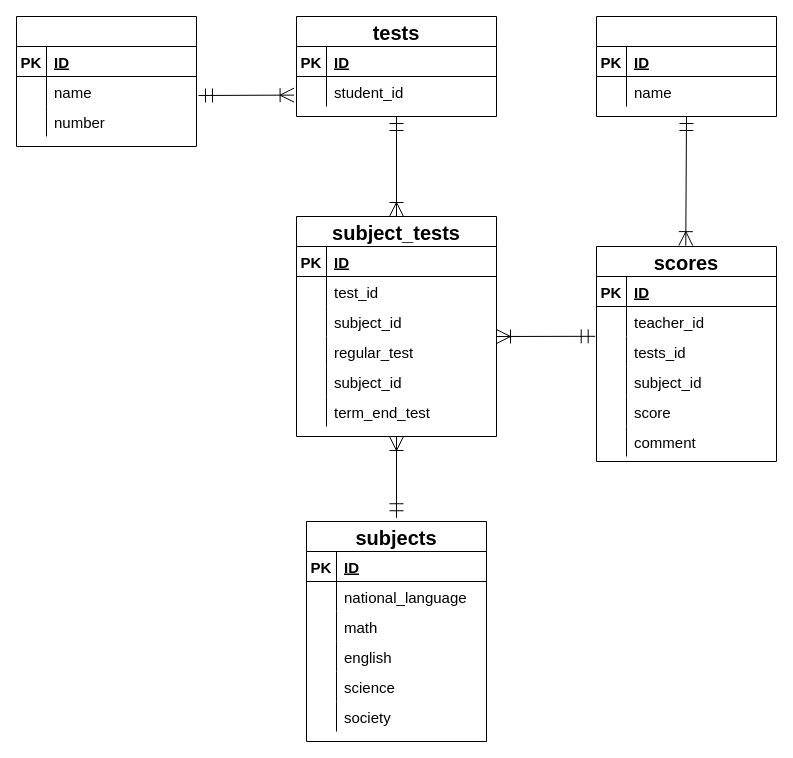
The diagram is 793 pixels wide and 758 high, and some of its shapes have lost their labels. The shapes that lost their labels are listed below. From the top down, each one's box as (x1, y1, x2, y2) in pixels, then its label:
(16, 16, 196, 146): students
(596, 16, 776, 116): teachers
